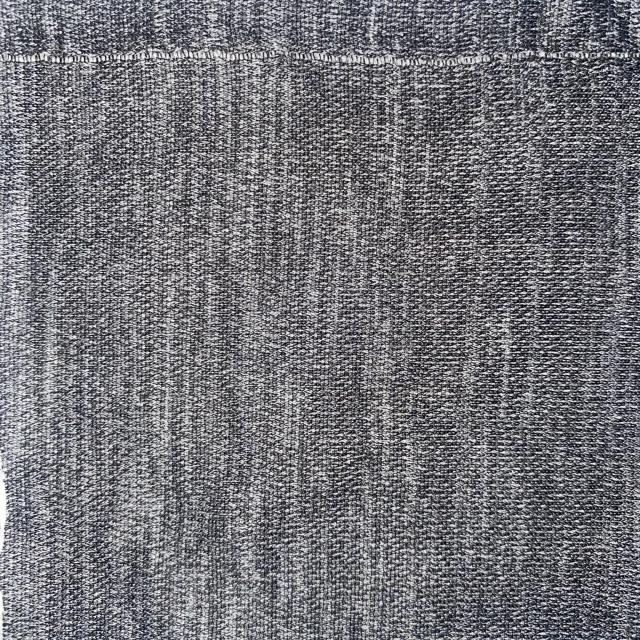Line: (0, 45, 640, 68)
